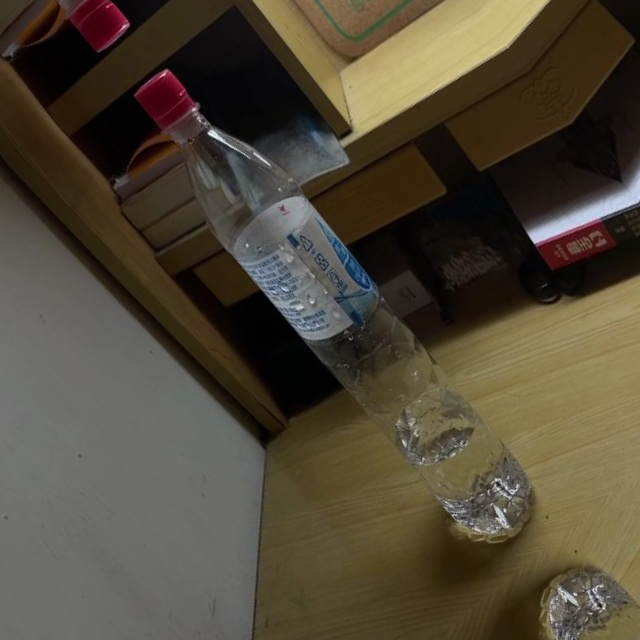Water: (108, 48, 560, 561)
